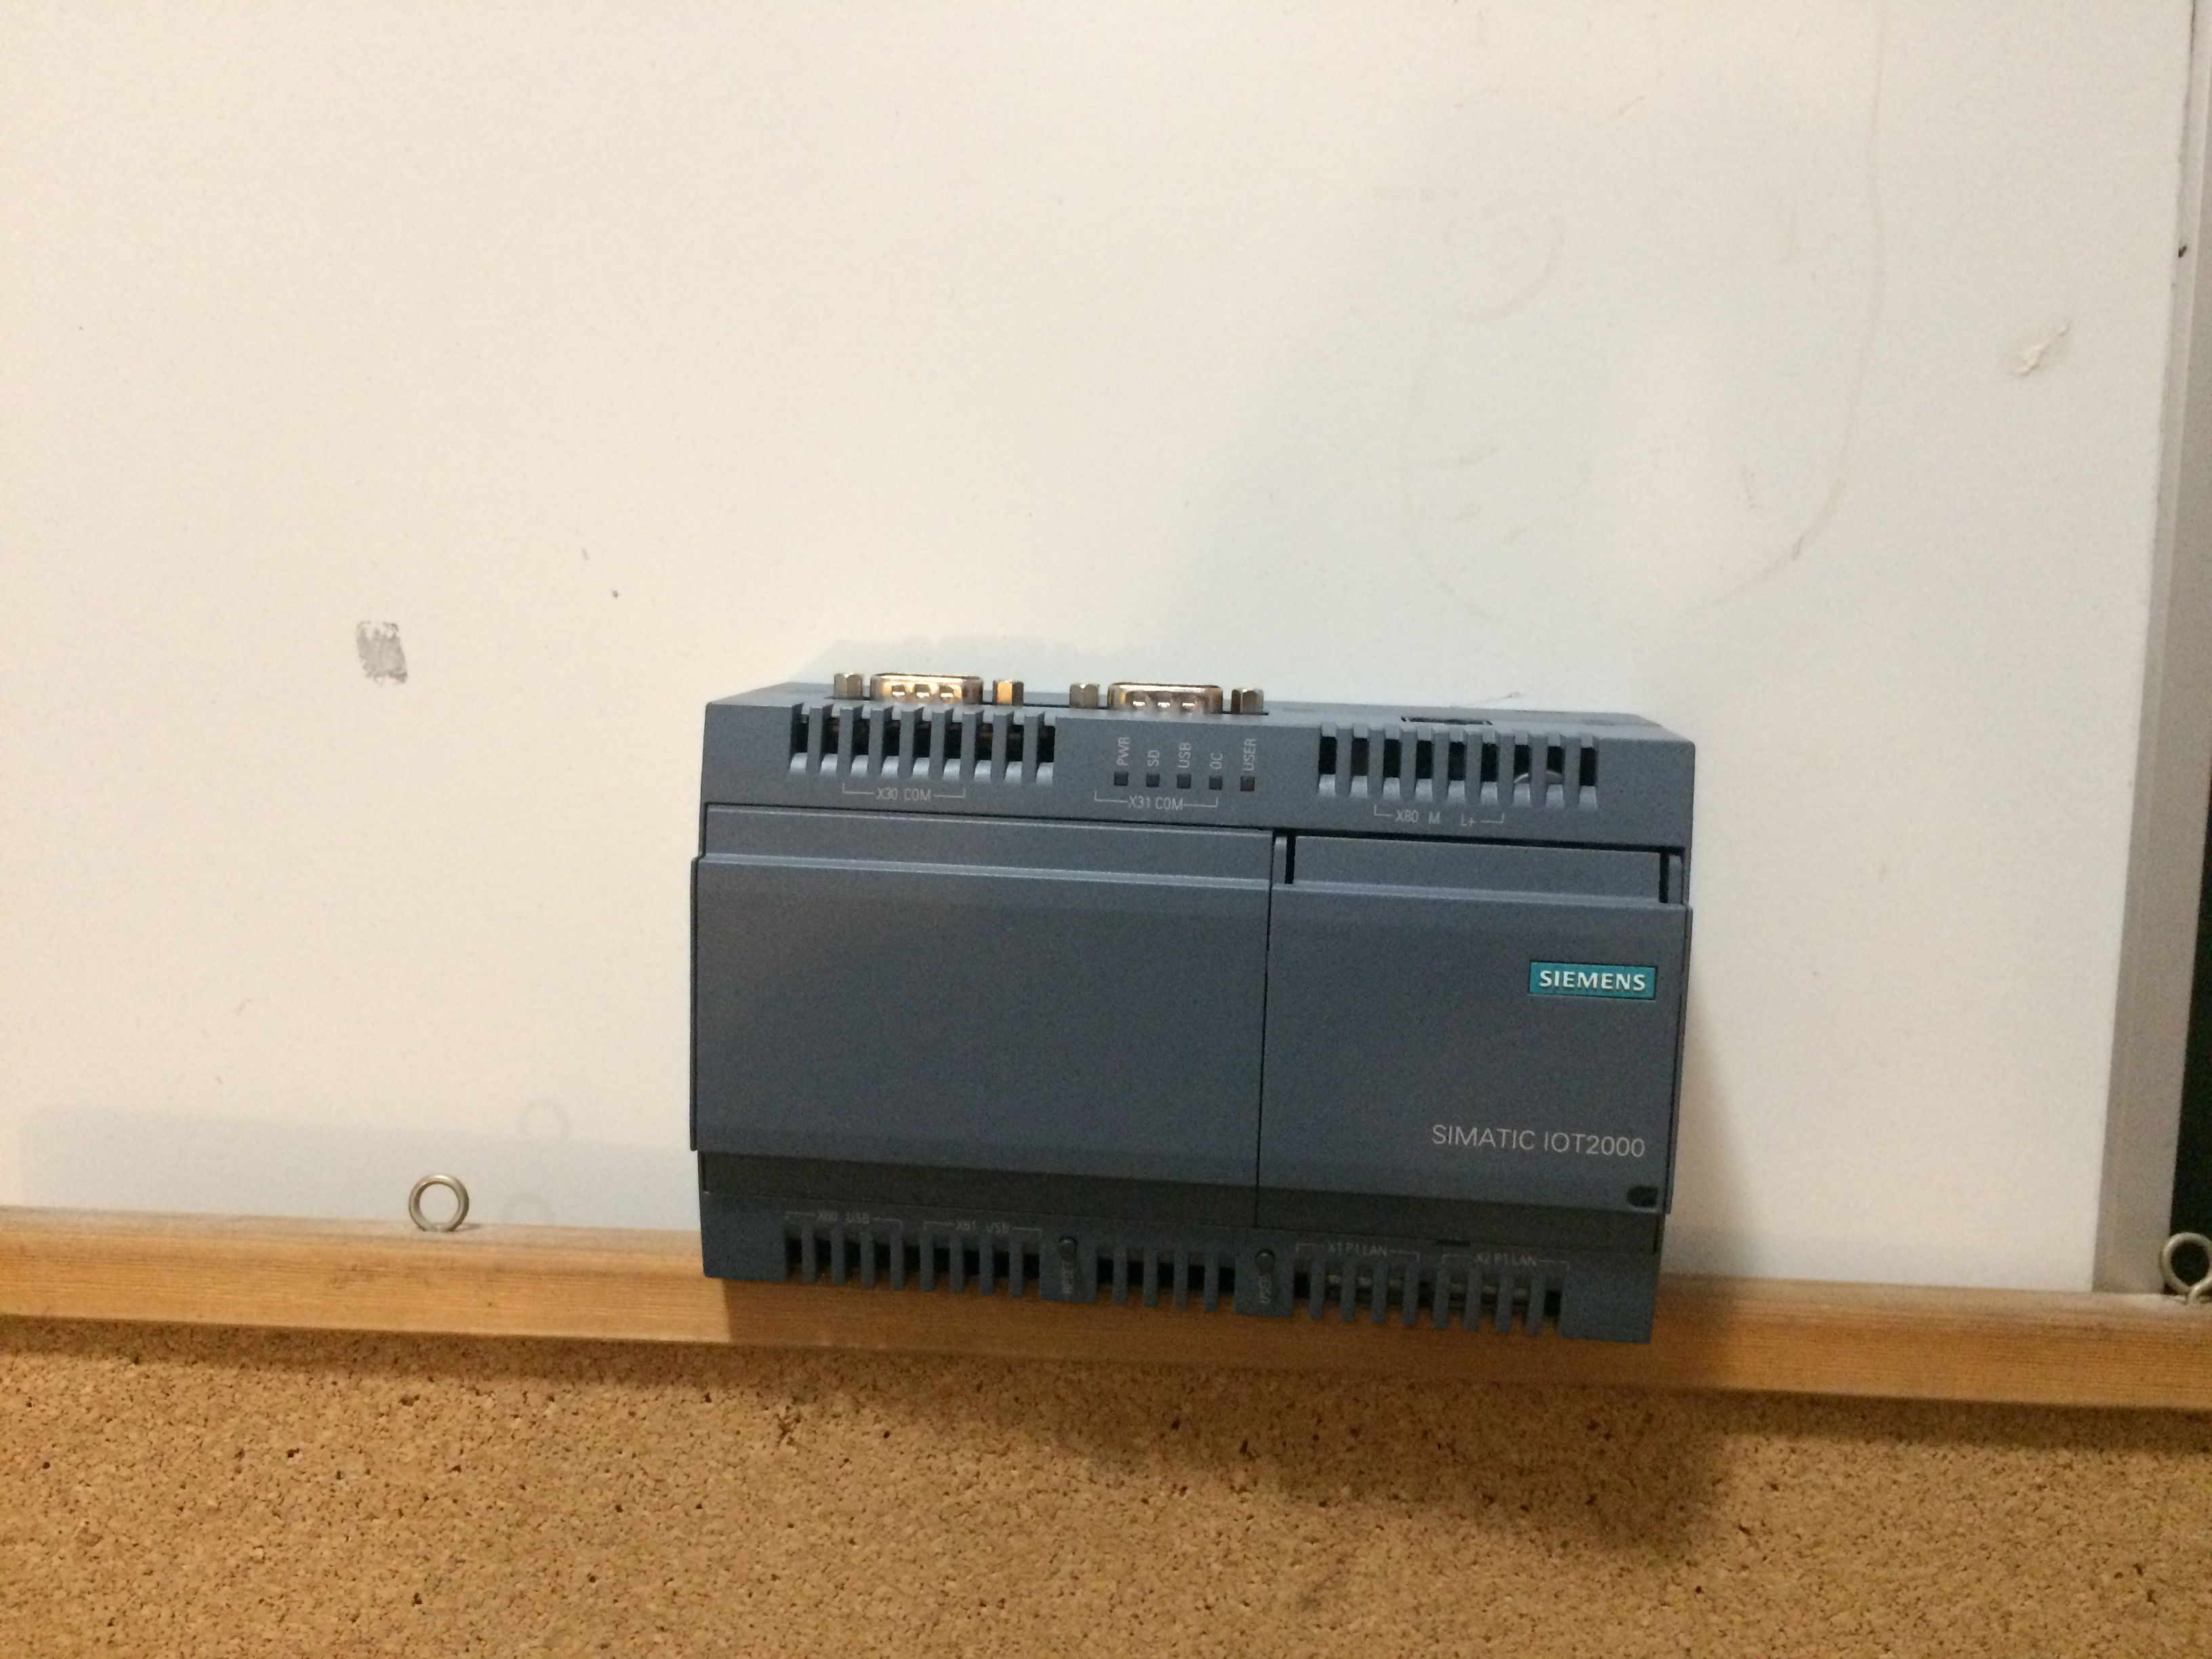iot2000: (683, 664, 1695, 1349)
